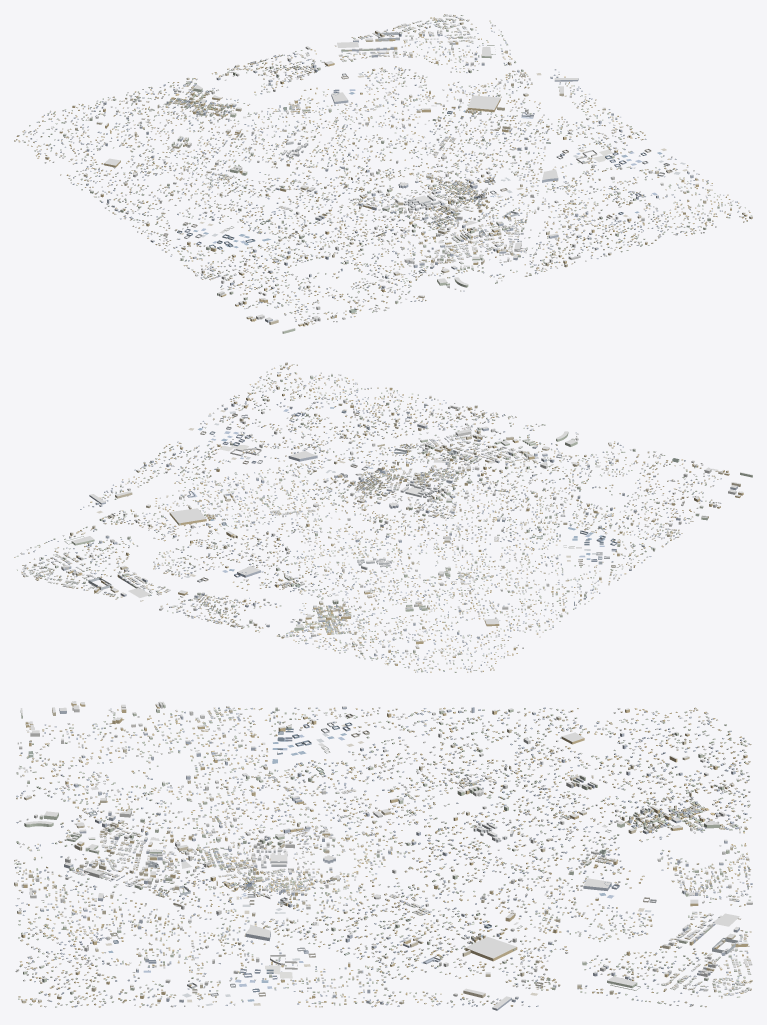
3 views of the same model, one above another, from view 1: azimuth 30°, elevation 25°; view 2: azimuth 150°, elevation 25°; view 3: azimuth 270°, elevation 25° (orthographic). The views are drawn at different scales.
Parts seen in each view (by area): view 1: house, roof_zinc, apartment, roof_flat, factory; view 2: house, roof_zinc, apartment, roof_flat, factory; view 3: house, roof_zinc, apartment, roof_flat, factory.
Part boxes in pixels (bbox=[...]): house: bbox=[14, 14, 751, 322]; roof_zinc: bbox=[14, 14, 751, 321]; apartment: bbox=[45, 14, 752, 333]; roof_flat: bbox=[36, 14, 752, 331]; factory: bbox=[163, 73, 672, 249]; house: bbox=[14, 364, 721, 672]; roof_zinc: bbox=[14, 364, 721, 672]; apartment: bbox=[21, 362, 752, 665]; roof_flat: bbox=[21, 362, 752, 664]; factory: bbox=[108, 410, 617, 582]; house: bbox=[14, 707, 752, 1007]; roof_zinc: bbox=[15, 707, 752, 1006]; apartment: bbox=[14, 702, 752, 1010]; roof_flat: bbox=[14, 701, 752, 1008]; factory: bbox=[110, 713, 656, 996].
Size of the model in its own units: 1.43e+08 by 1117871 by 1.45e+08.
